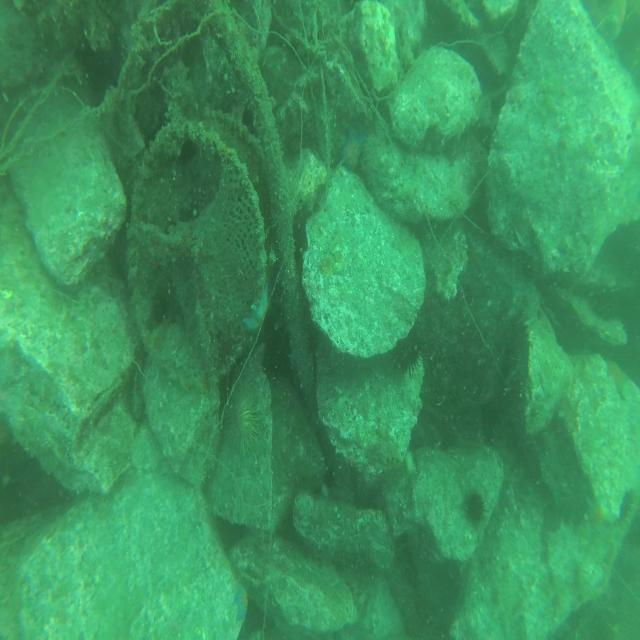echinus: (224, 381, 262, 462), (392, 334, 422, 376), (460, 486, 486, 527)
starfish: (243, 279, 271, 339), (580, 490, 614, 534), (598, 0, 630, 46), (600, 352, 628, 400), (336, 131, 368, 171), (232, 578, 251, 623)
